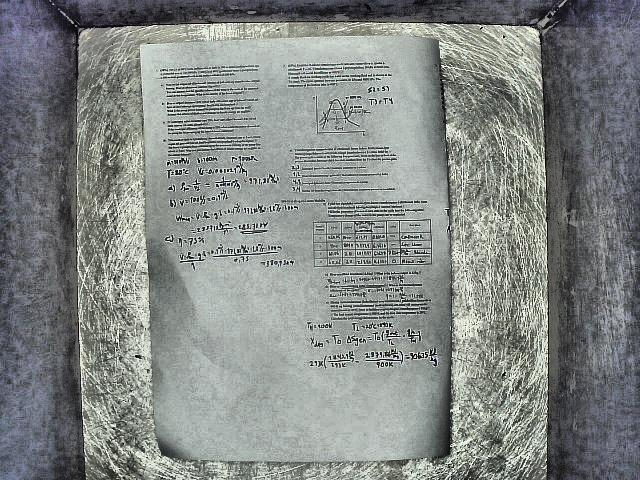Paper: (122, 7, 500, 465)
